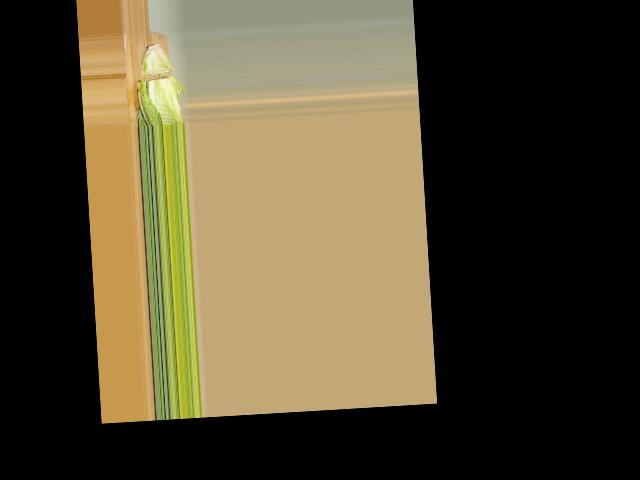lettuce: (129, 43, 185, 126)
